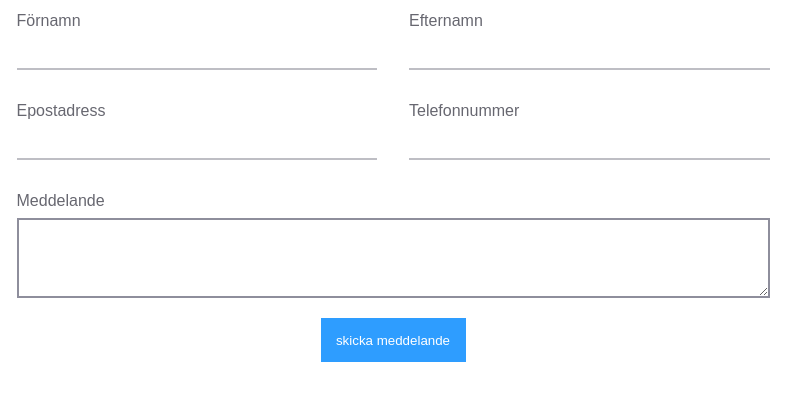
Test: Contact › Should show validation error when field is touched and invalid
In the field labelled "Epostadress": (197, 144) [16,128,377,160], type "not-an-email"
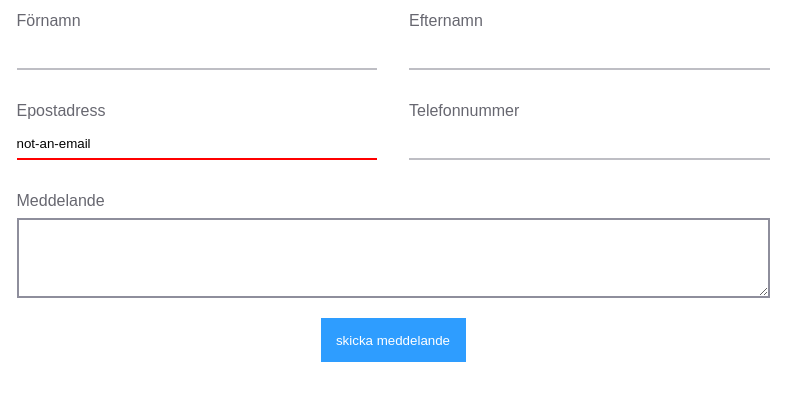
Leave the field labelled "Epostadress", box [16,128,377,160]
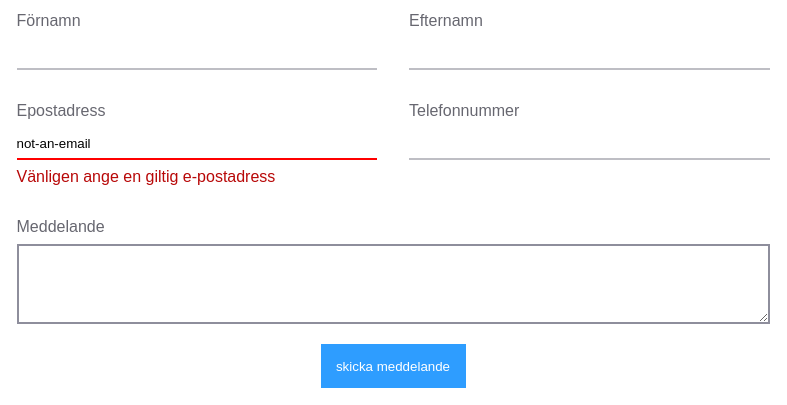
Check: the message "Vänligen ange en giltig e-postadress" is shown, box [16,168,275,185]
